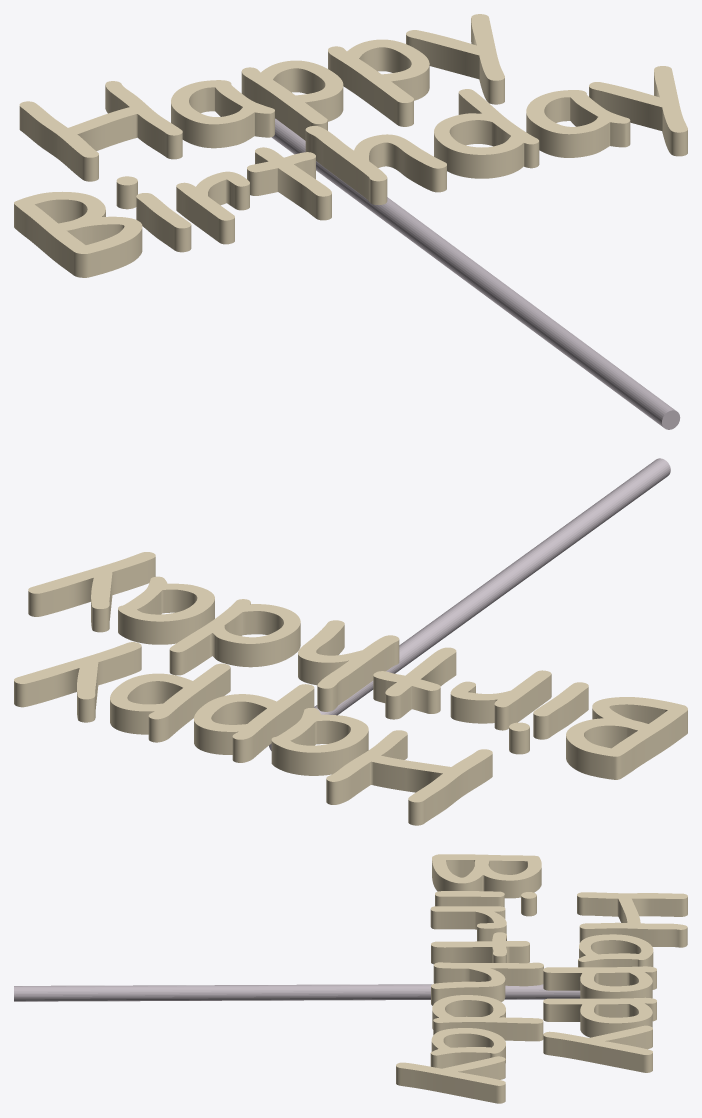
Rendered from birthday_stick2.glb.
3 renders of one model, top to bottom at view 1: azimuth 30°, elevation 25°; view 2: azimuth 150°, elevation 25°; view 3: azimuth 270°, elevation 25°, orthographic. The views are drawn at different scales.
Visible parts, largest first — view 1: Text.001, Text, Cylinder.001; view 2: Text.001, Text, Cylinder.001; view 3: Text.001, Text, Cylinder.001.
Boxes of the visible parts, x1,y1,x2,y2 form: Text.001: (14, 66, 687, 277); Text: (19, 14, 504, 181); Cylinder.001: (271, 118, 680, 429); Text.001: (28, 552, 687, 779); Text: (14, 642, 492, 825); Cylinder.001: (269, 458, 670, 750); Text.001: (396, 854, 543, 1103); Text: (543, 892, 687, 1072); Cylinder.001: (14, 984, 580, 1001).
Bounding box in the file's own units: 5.58 × 0.3756 × 6.86.
